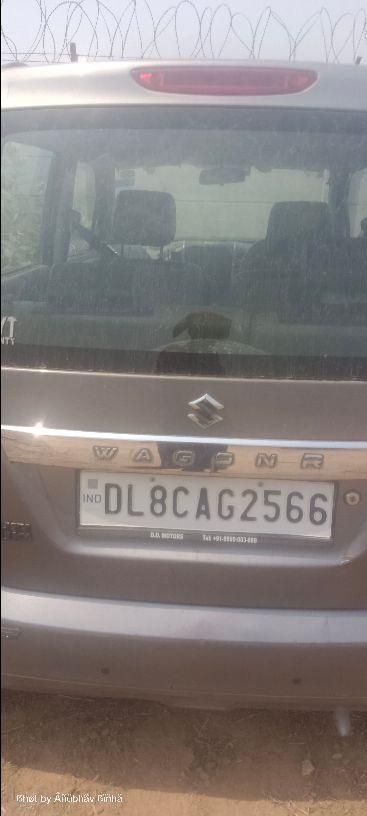license_plate: (74, 467, 337, 542)
